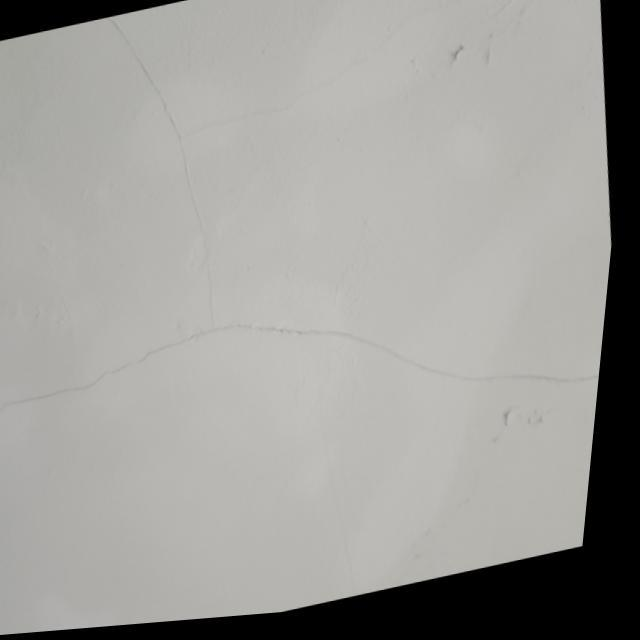Crack: (10, 323, 591, 409)
